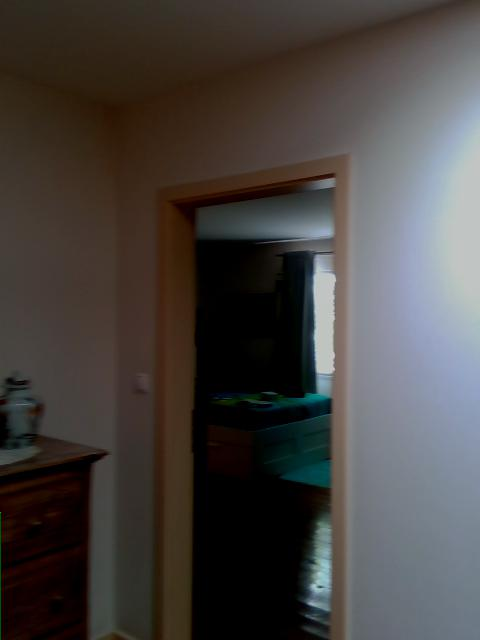open_door: (154, 149, 349, 638)
